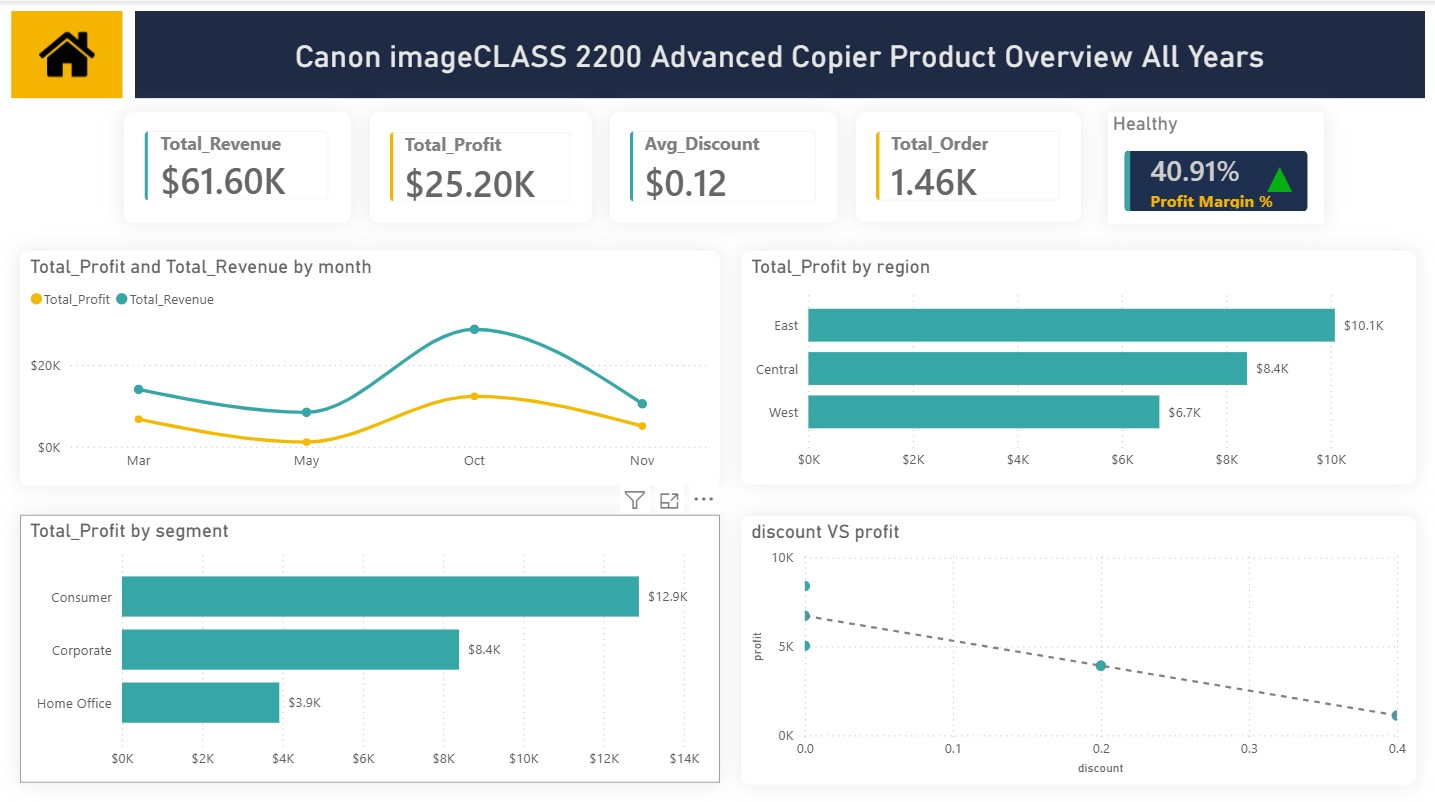

The dashboard page shown, as its layout file describes it:
{"tool":"powerbi","page":{"name":"Product Deep Dive","canvas":[1280,720],"ordinal":2},"visuals":[{"type":"actionButton","box":[8.7,8.7,99.6,77.9],"z":0},{"type":"card","fields":{"Values":["_Measures.Selected_Product"]},"box":[118,8.9,1148.8,77.9],"z":1000},{"type":"lineChart","fields":{"Category":["dim_date.month"],"Y":["_Measures.Total_Profit","_Measures.Total_Revenue"]},"box":[18,223.2,623.2,208.5],"z":2000},{"type":"cardVisual","fields":{"Data":["_Measures.Total_Sales"]},"box":[110.3,99.5,202.5,98.3],"z":3000},{"type":"cardVisual","fields":{"Data":["_Measures.Total_Profit"]},"box":[329.3,99.5,197.8,98.3],"z":4000},{"type":"cardVisual","fields":{"Data":["_Measures.Avg_Discount"]},"box":[543.5,99.5,202.5,98.3],"z":5000},{"type":"cardVisual","fields":{"Data":["_Measures.Total_Order"]},"box":[762.2,99.5,200.1,97.9],"z":6000},{"type":"scatterChart","title":"discount VS profit","fields":{"X":["fact_sales.discount"],"Y":["fact_sales.profit"]},"box":[660.2,458.6,601.1,239.3],"z":7000},{"type":"barChart","fields":{"Category":["dim_customer.segment"],"Y":["_Measures.Total_Profit"]},"box":[17.9,457.5,623.4,239.3],"z":9000},{"type":"barChart","fields":{"Category":["dim_location.region"],"Y":["_Measures.Total_Profit"]},"box":[660.2,222.6,601.1,208.2],"z":10000},{"type":"group","id":"g1","title":"Group 1","box":[986,99.5,192.6,99.1],"z":12000},{"type":"cardVisual","fields":{"Data":["_Measures.Profit Margin %"]},"box":[986,99.5,193,99],"z":13000,"group":"g1"},{"type":"card","fields":{"Values":["_Measures.Profit_Margin Icon"]},"box":[1103.4,138.5,73.1,40.4],"z":16000,"group":"g1"}]}

Visuals, with their boxes in screenshot pixels (x1, y1, x2, y2), scaled from the page's 1280x720 canvas onto the 1435x802 screenshot:
actionButton: BBox(10, 10, 121, 96)
card - _Measures.Selected_Product: BBox(132, 10, 1420, 97)
lineChart - dim_date.month x _Measures.Total_Profit: BBox(20, 249, 719, 481)
cardVisual - _Measures.Total_Sales: BBox(124, 111, 351, 220)
cardVisual - _Measures.Total_Profit: BBox(369, 111, 591, 220)
cardVisual - _Measures.Avg_Discount: BBox(609, 111, 836, 220)
cardVisual - _Measures.Total_Order: BBox(854, 111, 1079, 220)
"discount VS profit" scatterChart: BBox(740, 511, 1414, 777)
barChart - dim_customer.segment x _Measures.Total_Profit: BBox(20, 510, 719, 776)
barChart - dim_location.region x _Measures.Total_Profit: BBox(740, 248, 1414, 480)
"Group 1" group: BBox(1105, 111, 1321, 221)
cardVisual - _Measures.Profit Margin %: BBox(1105, 111, 1322, 221)
card - _Measures.Profit_Margin Icon: BBox(1237, 154, 1319, 199)
